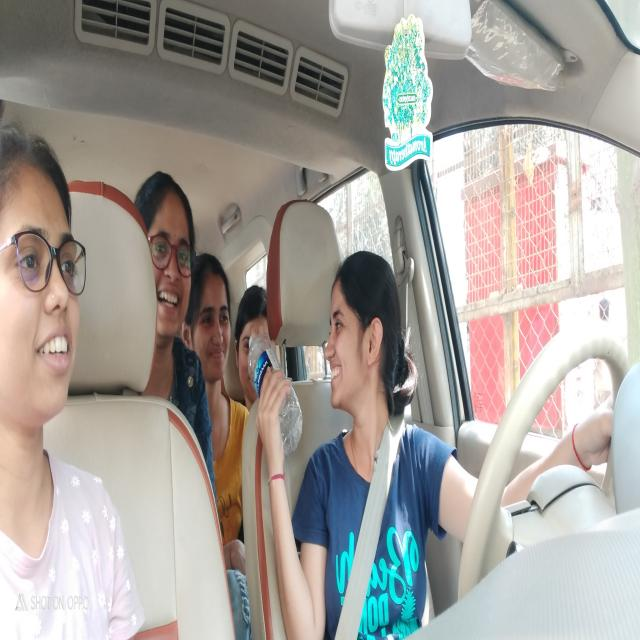LeftRight: (321, 229, 408, 437)
person: (0, 130, 88, 432), (140, 168, 197, 364), (192, 253, 233, 383)
talking: (326, 358, 345, 397)
